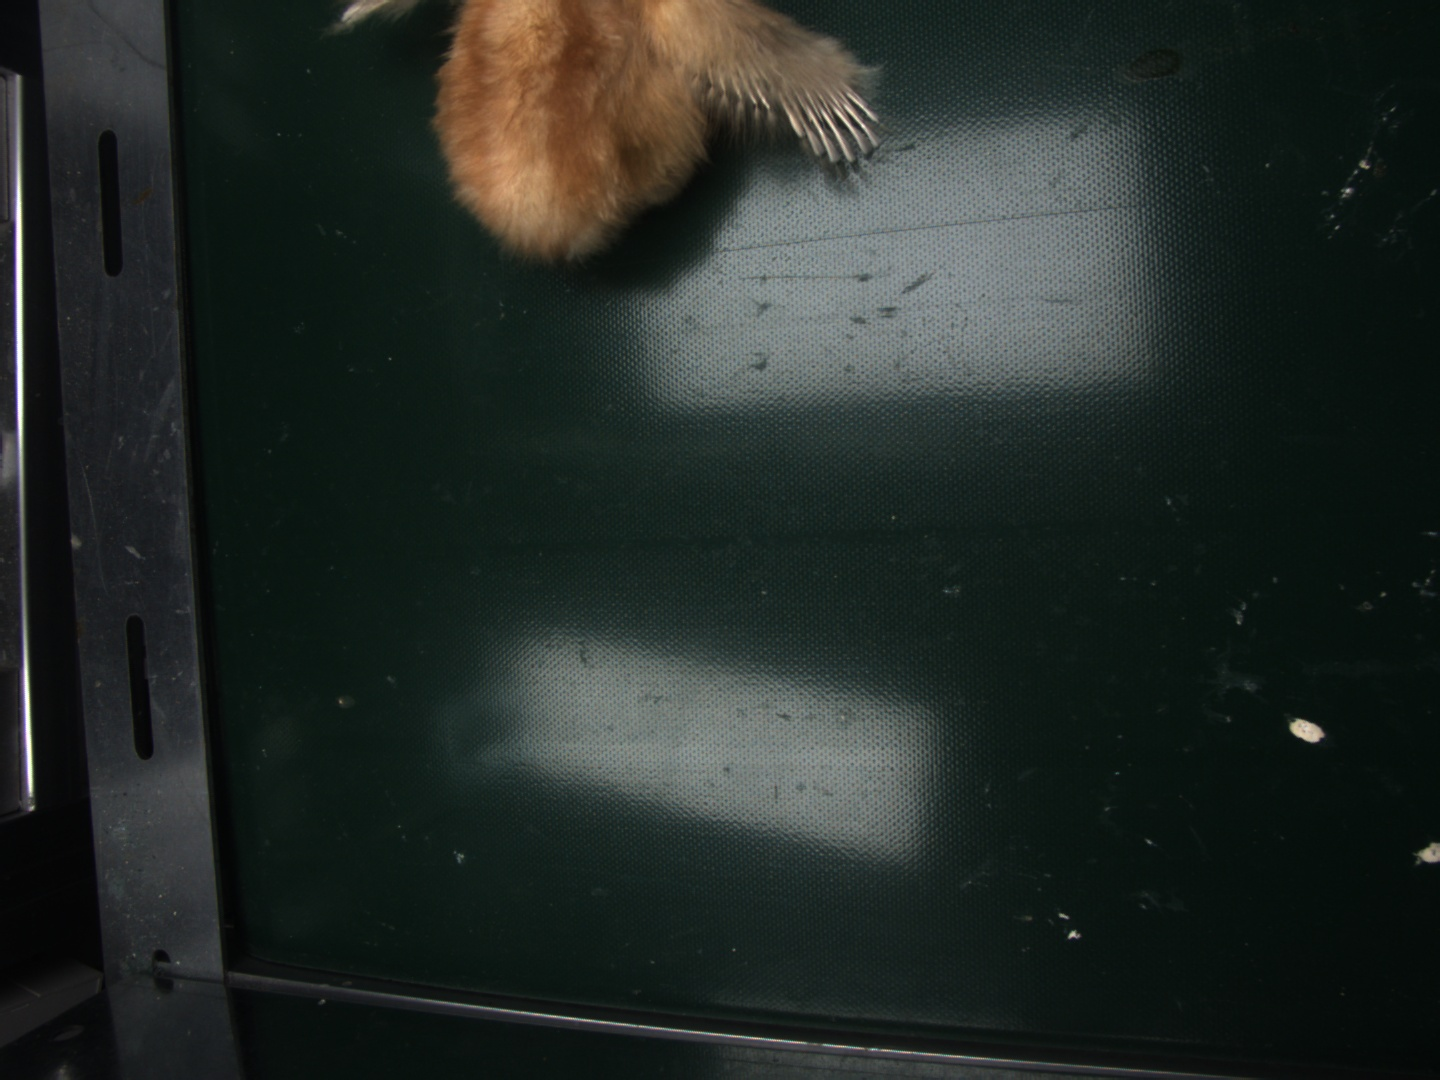female: (780, 78, 881, 164)
